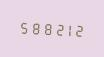eight: (28, 18, 38, 36), (40, 19, 50, 36)
five: (17, 18, 27, 35)
one: (62, 20, 72, 38)
two: (51, 19, 61, 37), (73, 21, 83, 38)
